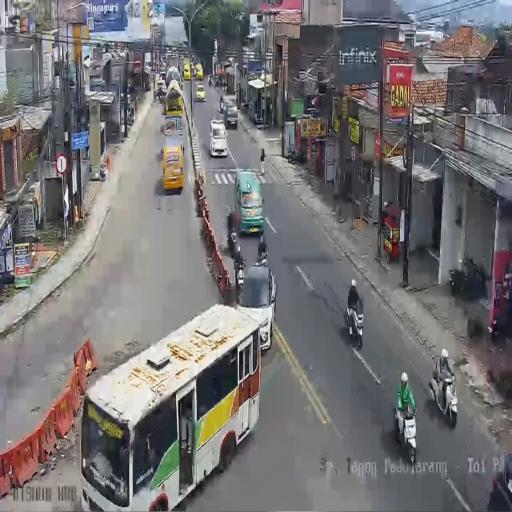car: (237, 262, 276, 348), (233, 168, 264, 235), (487, 452, 512, 510), (162, 142, 184, 193), (209, 119, 228, 157), (224, 104, 238, 128), (155, 77, 167, 100), (195, 84, 206, 102), (194, 63, 203, 80), (183, 63, 191, 80)
truck: (427, 362, 457, 426), (394, 401, 417, 469), (346, 298, 364, 348), (226, 222, 238, 256), (284, 146, 302, 164), (214, 74, 220, 88), (208, 73, 212, 86)
